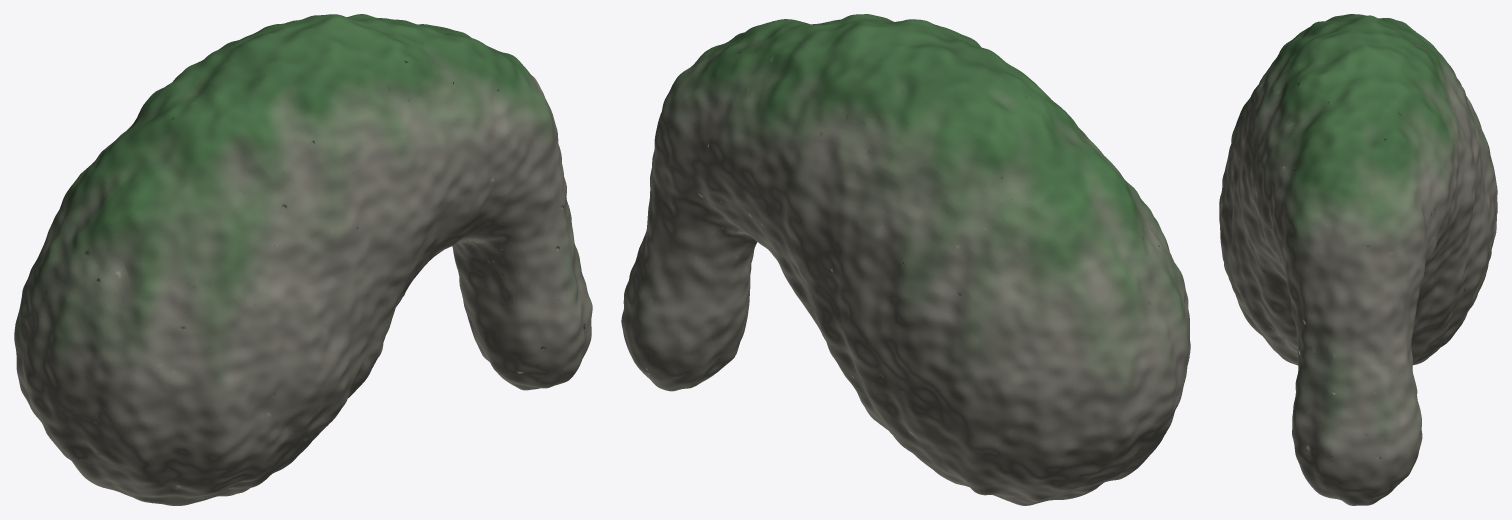
File: elephant-hill.glb
3 views of the same model, side by side, from view 1: azimuth 30°, elevation 25°; view 2: azimuth 150°, elevation 25°; view 3: azimuth 270°, elevation 25° (orthographic). The views are drawn at different scales.
Visible parts, largest first — view 1: Water Moon Arch.001; view 2: Water Moon Arch.001; view 3: Water Moon Arch.001.
Part boxes in pixels (left/top/right/bottom): Water Moon Arch.001: left=14, top=14, right=592, bottom=505; Water Moon Arch.001: left=621, top=14, right=1190, bottom=505; Water Moon Arch.001: left=1219, top=14, right=1497, bottom=505.
Bounding box in the file's own units: 87.02 × 65.93 × 42.85.
